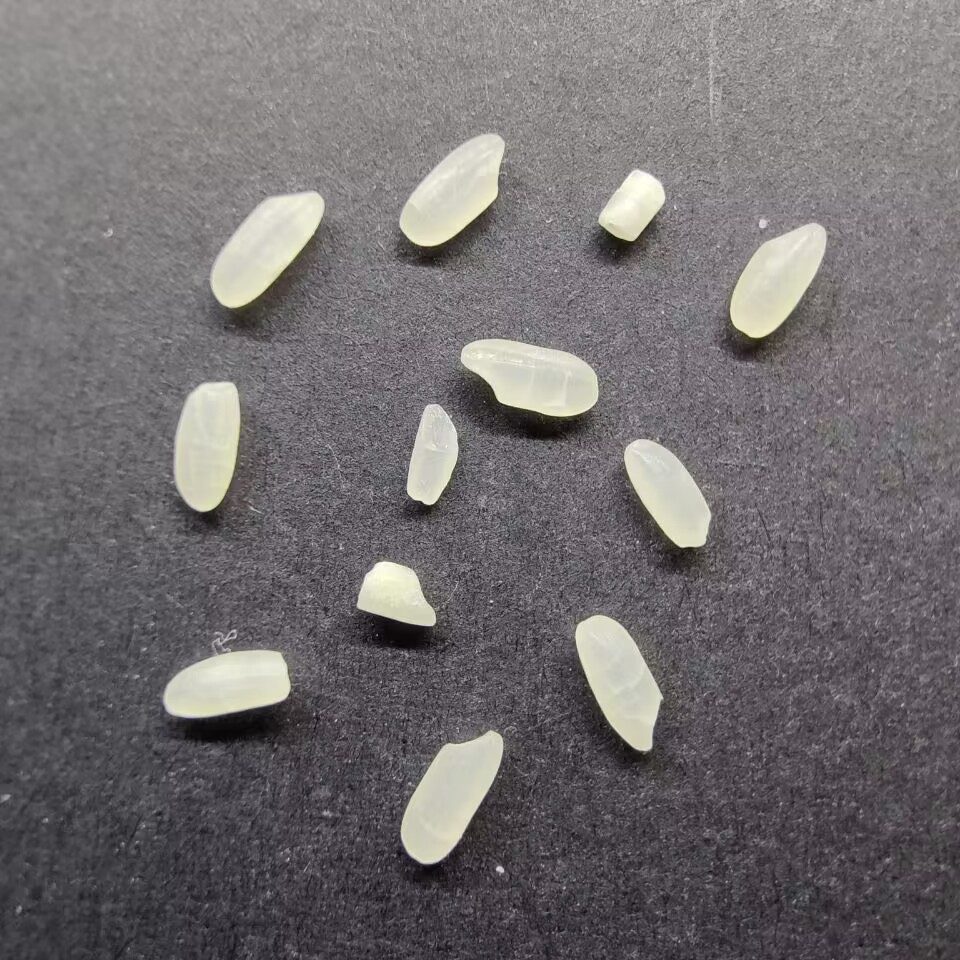broken: (404, 401, 460, 508), (354, 559, 438, 629), (594, 167, 668, 244)
rice: (396, 729, 504, 865), (208, 189, 327, 311), (572, 613, 665, 753), (397, 131, 506, 247), (727, 220, 830, 341), (458, 338, 600, 418), (619, 438, 713, 551), (159, 648, 292, 724), (170, 379, 242, 514)
